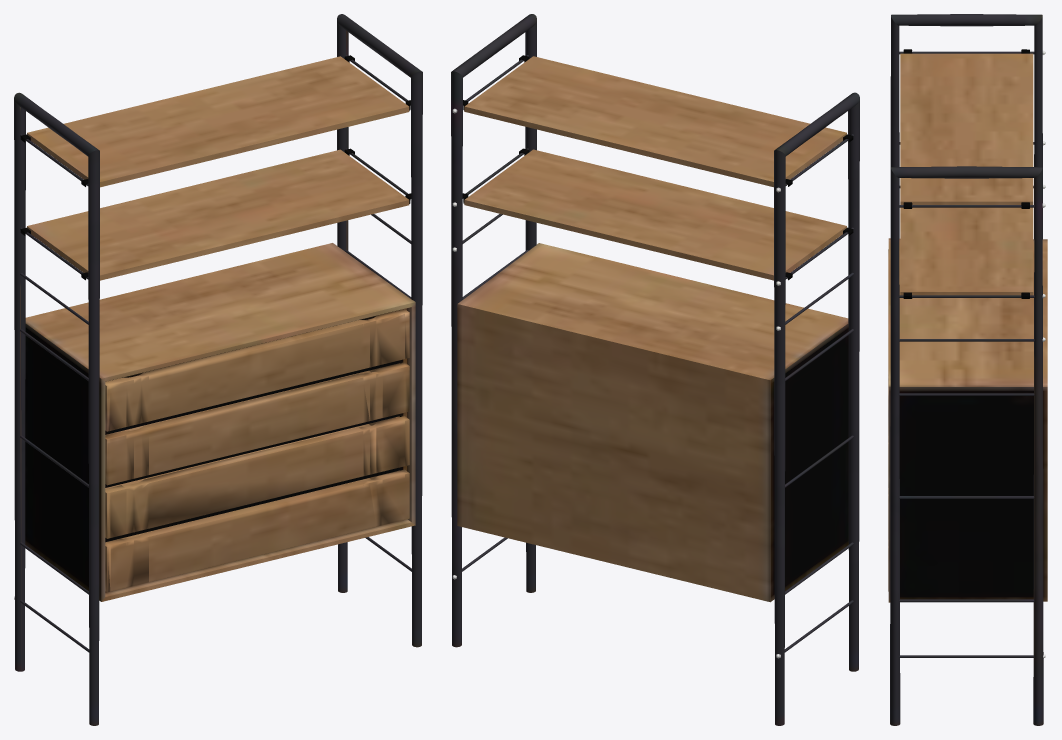
The model's file is kitchen-rack.glb.
The picture shows the model from 3 angles, left to right: view 1: azimuth 30°, elevation 25°; view 2: azimuth 150°, elevation 25°; view 3: azimuth 270°, elevation 25°; orthographic projection. The views are drawn at different scales.
Visible parts, largest first — view 1: drawer_cabinet, drawer_cabinet_drawer_03, drawer_cabinet_drawer_02, drawer_cabinet_drawer_04, drawer_cabinet_drawer_01; view 2: drawer_cabinet; view 3: drawer_cabinet.
Boxes of the visible parts, x1,y1,x2,y2 form: drawer_cabinet: [14, 14, 422, 725]; drawer_cabinet_drawer_03: [105, 416, 409, 538]; drawer_cabinet_drawer_02: [105, 362, 409, 485]; drawer_cabinet_drawer_04: [105, 469, 409, 592]; drawer_cabinet_drawer_01: [105, 309, 409, 431]; drawer_cabinet: [451, 14, 859, 725]; drawer_cabinet: [888, 14, 1047, 725].
Bounding box in the file's own units: 1.14 × 1.88 × 0.4881.
1 material, 1 textured.
